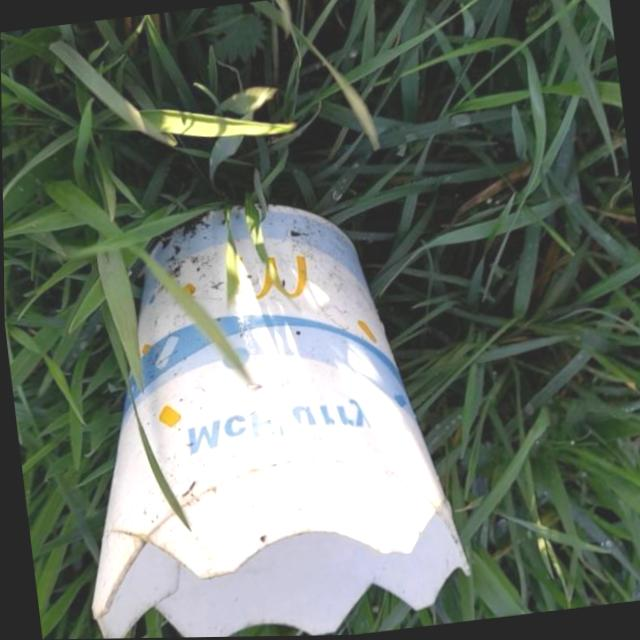Paper: (37, 177, 475, 640)
